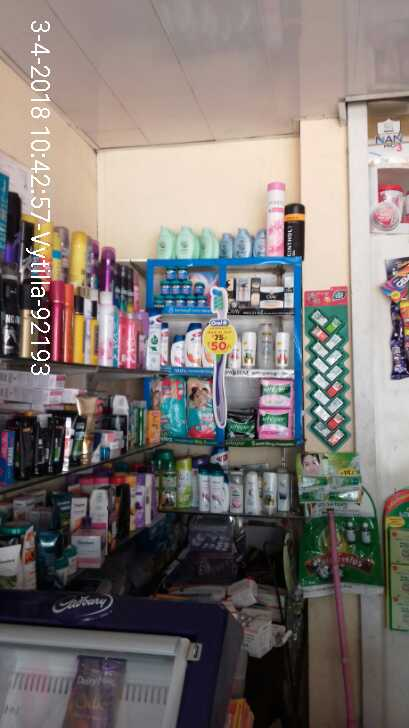vicks: (155, 266, 208, 306)
